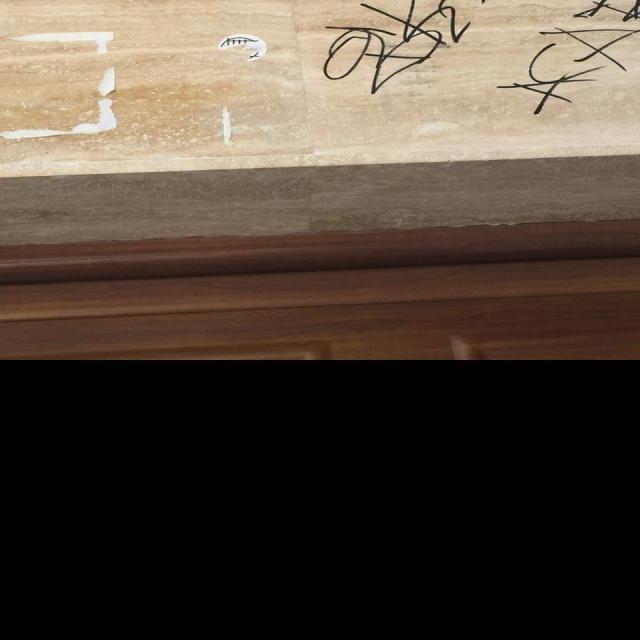nonspitting: (496, 0, 640, 114), (322, 0, 472, 94)
